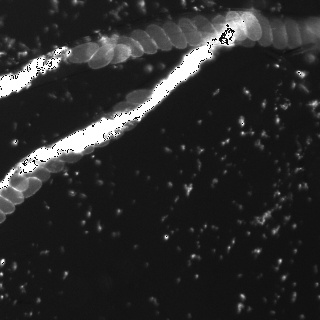embryo: (145, 24, 172, 50), (178, 18, 202, 47), (162, 21, 187, 48), (88, 45, 116, 69), (130, 29, 157, 53), (227, 11, 248, 41), (68, 43, 99, 63), (14, 177, 43, 198), (87, 39, 116, 60), (116, 36, 144, 57), (241, 12, 261, 41), (192, 15, 214, 41), (271, 18, 287, 50), (107, 114, 138, 130), (105, 44, 131, 63), (283, 19, 300, 48), (126, 89, 156, 105), (256, 16, 272, 46), (114, 101, 145, 116), (0, 185, 24, 204), (298, 21, 315, 46), (24, 166, 51, 181), (57, 148, 82, 164), (9, 172, 29, 192), (238, 29, 256, 48), (44, 158, 65, 172), (211, 15, 225, 30), (89, 137, 109, 147), (78, 144, 94, 154), (109, 129, 124, 139)
